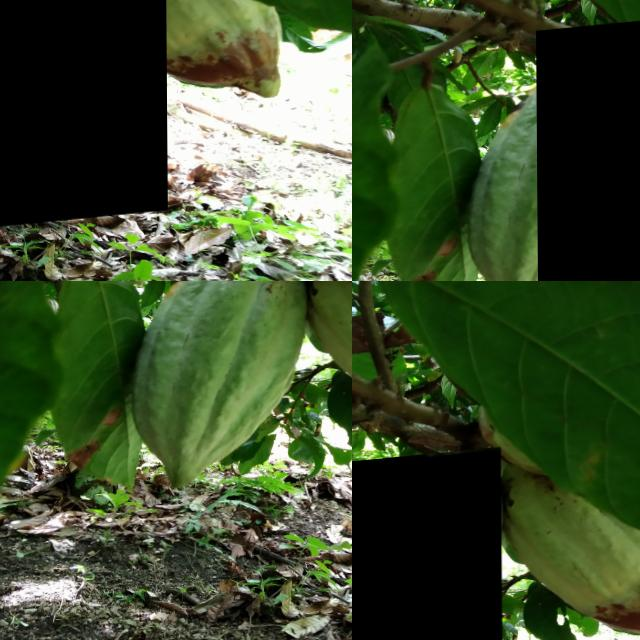Fitoftora: (163, 281, 352, 584), (535, 14, 640, 281), (535, 563, 640, 640)
Monilia: (0, 0, 166, 236)
Sana: (352, 453, 501, 640), (15, 508, 74, 565)
